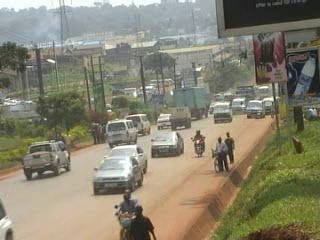Car: (92, 155, 145, 196), (104, 144, 152, 171), (149, 127, 186, 157), (0, 197, 20, 240), (153, 111, 174, 130), (206, 102, 218, 113)
Motorcycle: (111, 193, 153, 238), (188, 129, 207, 159)
